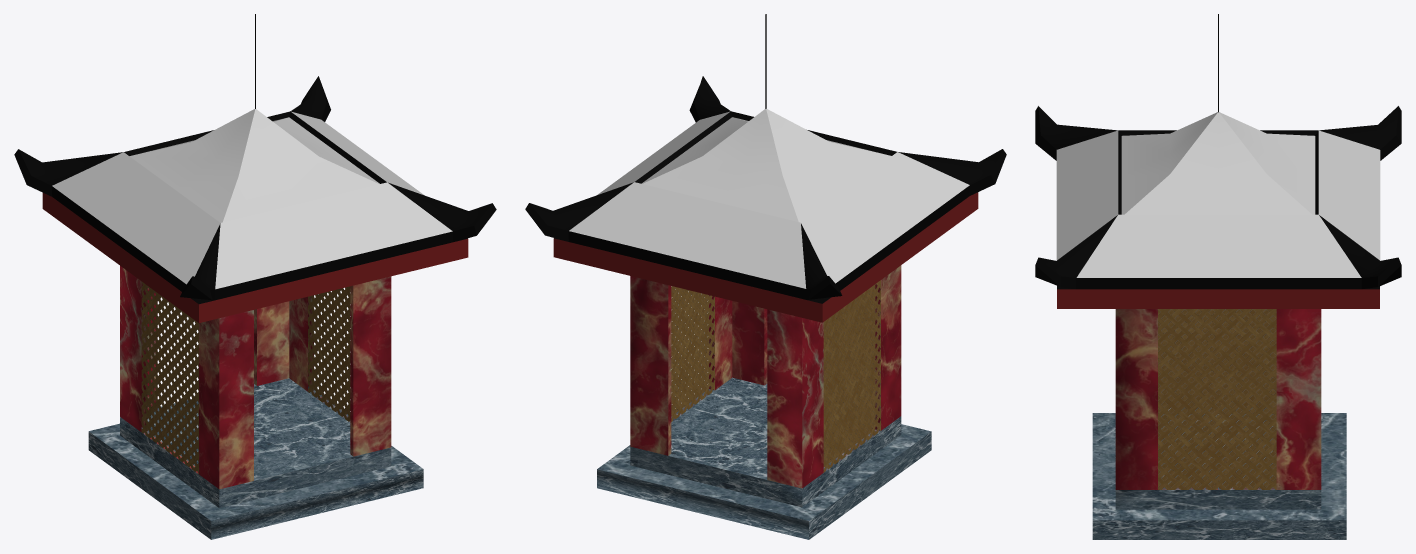
The model's file is Mod_Building 1.fbx.
3 renders of one model, left to right at view 1: azimuth 30°, elevation 25°; view 2: azimuth 150°, elevation 25°; view 3: azimuth 270°, elevation 25°, orthographic. The views are drawn at different scales.
Parts seen in each view (by area): view 1: pCube11; view 2: pCube11; view 3: pCube11.
Boxes of the visible parts, <box> form: pCube11: <box>14,14,496,539</box>; pCube11: <box>525,14,1006,539</box>; pCube11: <box>1035,14,1401,539</box>.
Bounding box in the file's own units: 338 × 481 × 339.
